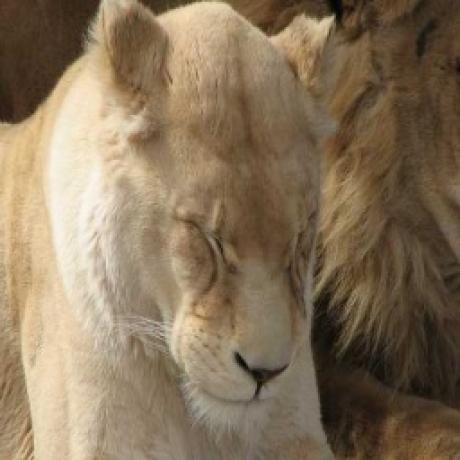Lion: (0, 0, 338, 460)
